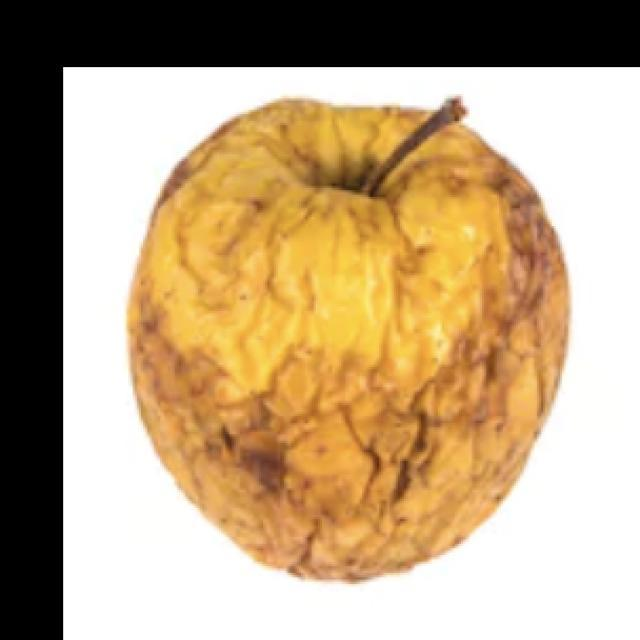Rotten: (120, 98, 545, 572)
